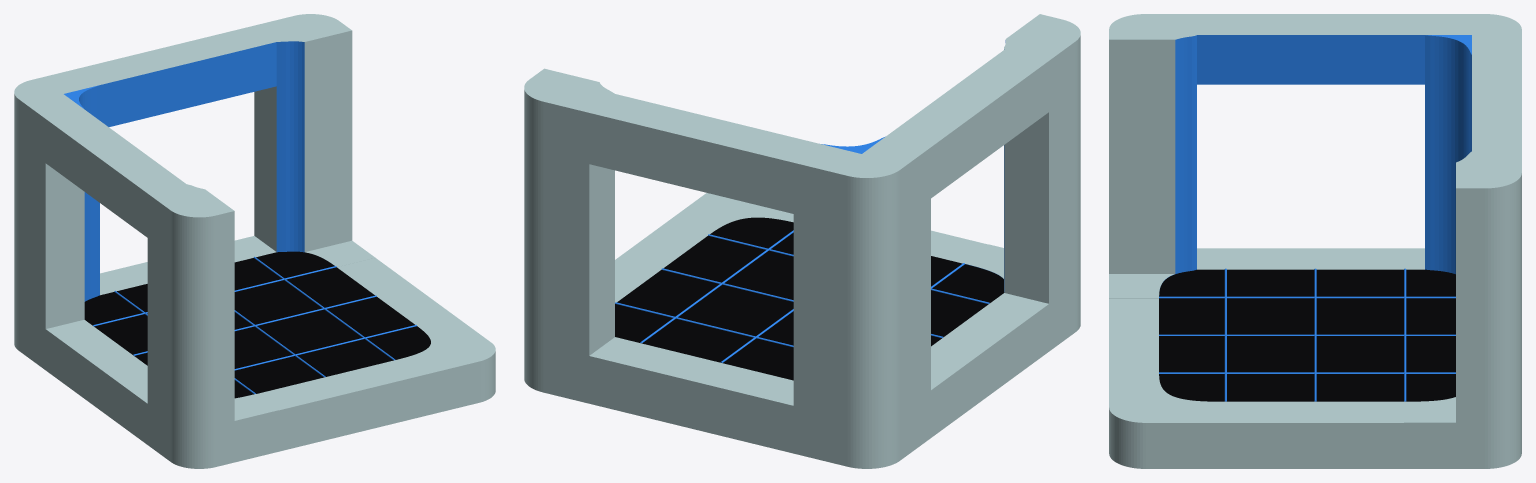
File: nuppgin9.glb
3 views of the same model, side by side, from view 1: azimuth 30°, elevation 25°; view 2: azimuth 150°, elevation 25°; view 3: azimuth 270°, elevation 25° (orthographic). The views are drawn at different scales.
Visible parts, largest first — view 1: Cube.004; view 2: Cube.004; view 3: Cube.004.
Boxes of the visible parts, left/top/right/bottom form: Cube.004: left=14, top=14, right=495, bottom=468; Cube.004: left=524, top=14, right=1080, bottom=468; Cube.004: left=1109, top=14, right=1521, bottom=468.
Size of the model in its own units: 13.8 by 10.35 by 13.8.
